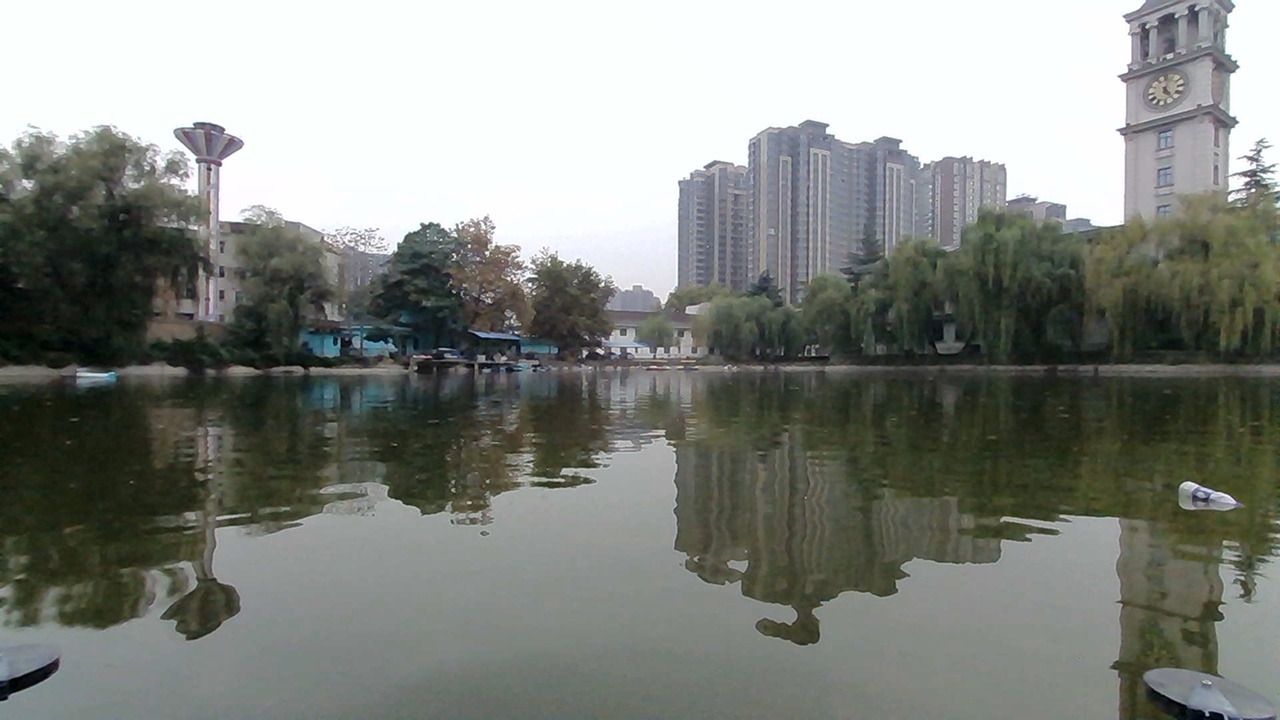bottle: (1158, 467, 1244, 518)
